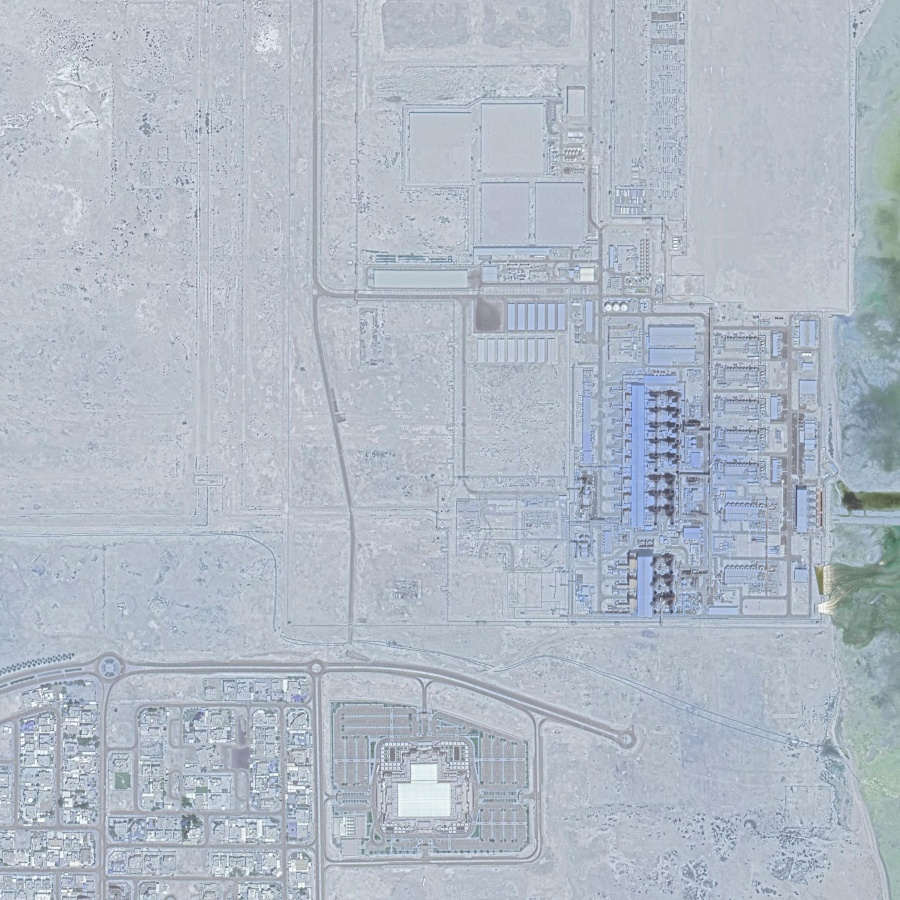PowerPlant: (592, 292, 854, 618)
